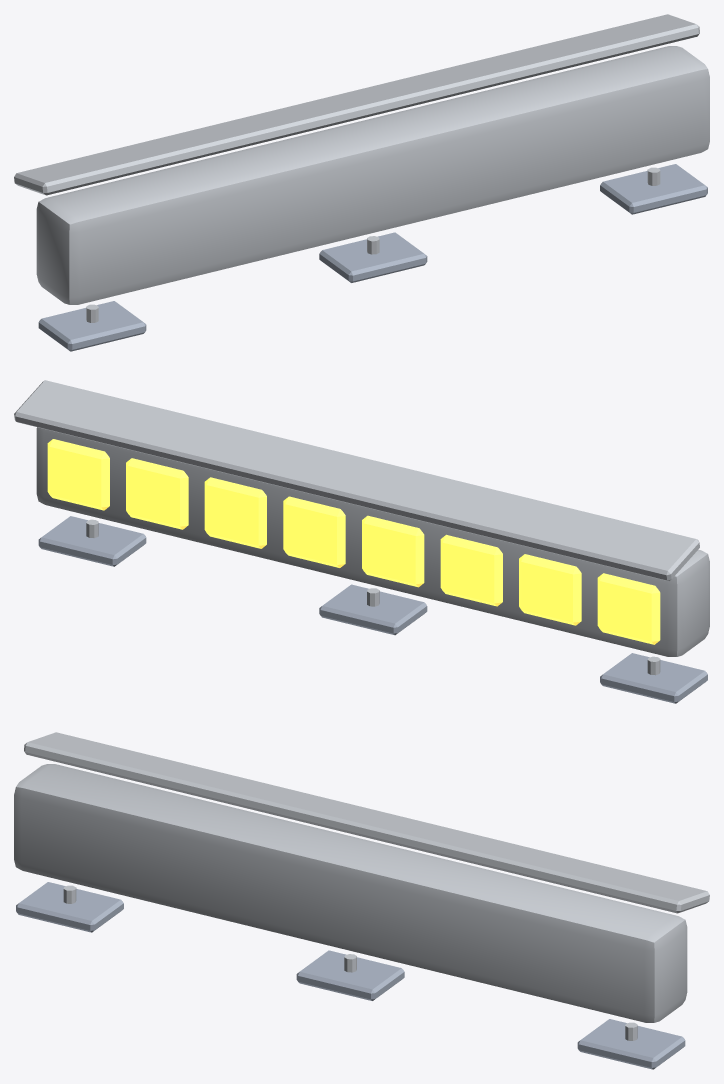
File: roof_light_bar_rect.glb
3 views of the same model, one above another, from view 1: azimuth 30°, elevation 25°; view 2: azimuth 150°, elevation 25°; view 3: azimuth 330°, elevation 25° (orthographic).
Parts seen in each view (by area): view 1: chrome, steel; view 2: chrome, lamp_amber, steel; view 3: chrome, steel.
Boxes of the visible parts, x1,y1,x2,y2 form: chrome: (14, 14, 709, 322); steel: (38, 164, 707, 351); chrome: (14, 380, 709, 675); lamp_amber: (47, 439, 660, 644); steel: (38, 516, 707, 703); chrome: (14, 732, 709, 1040); steel: (16, 882, 685, 1069).
Size of the model in its own units: 2.34 by 0.5383 by 0.3099.
